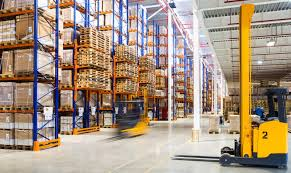Pallet Jack: (169, 4, 291, 172), (96, 85, 153, 145)
